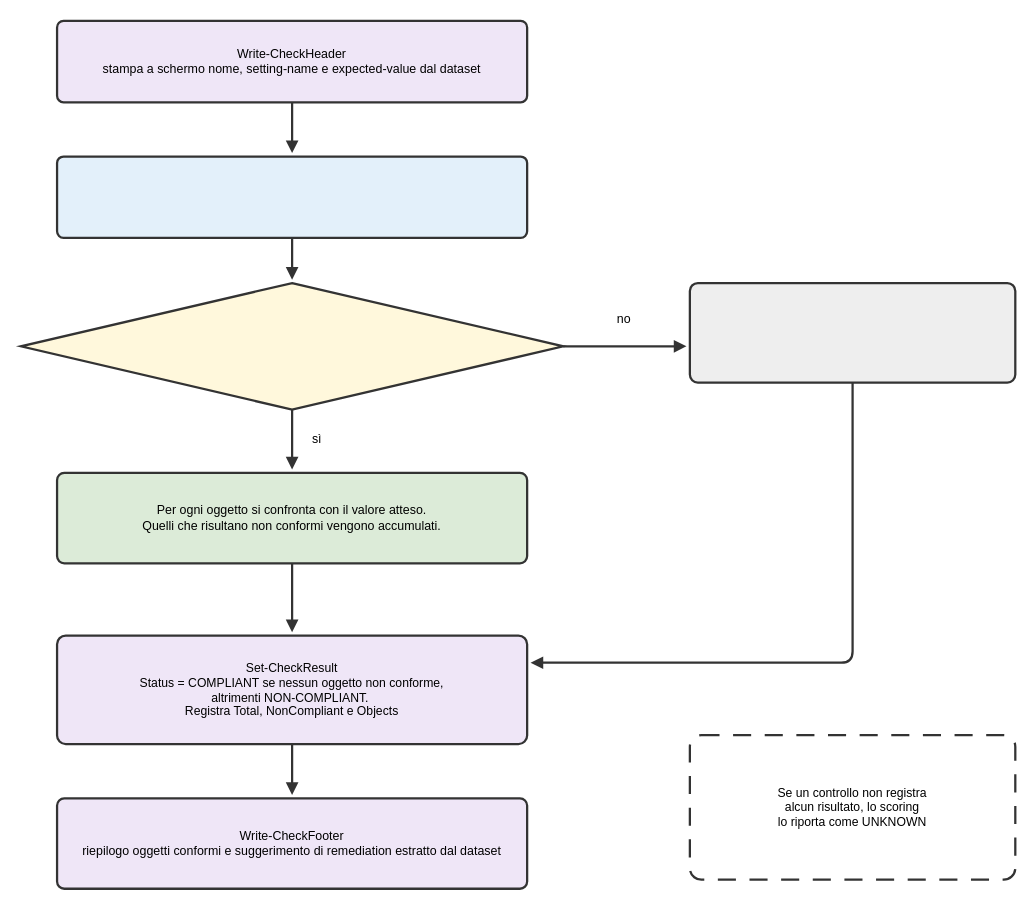
The diagram is 1035 pixels wide and 909 high, and some of its shapes have lost their labels. The box of each missing label's shape, as (x1, y1, x2, y2) in pixels:
Ci sono oggetti da valutare?: (19, 281, 564, 410)
Interrogazione della piattaforma (Azure CLI / PowerCLI): (55, 155, 528, 238)
N/A (se previsto dal controllo) Set-CheckResult con Total = 0: (688, 281, 1016, 383)
